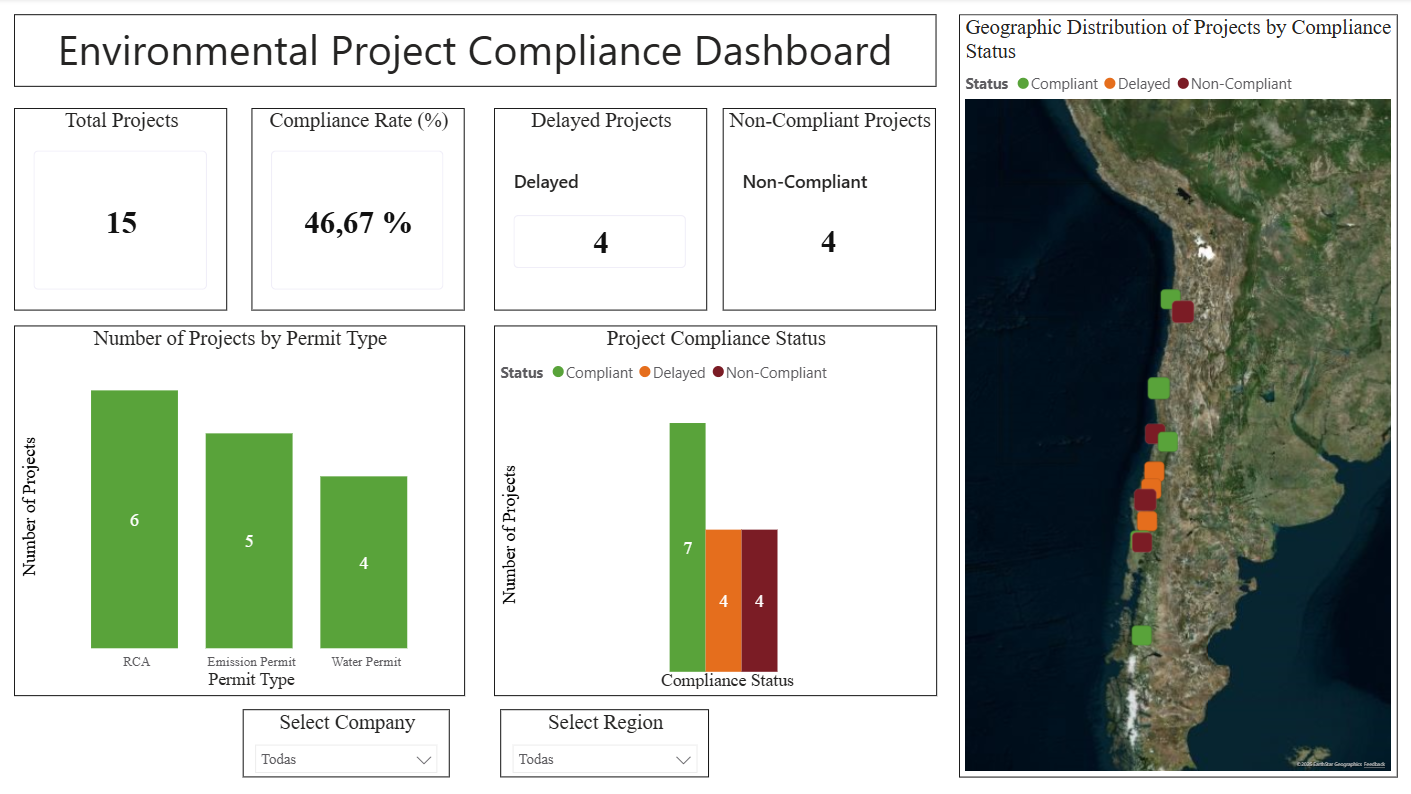

Layout of this report page (visuals, bound fields, positions):
{"tool":"powerbi","page":{"name":"Página 1","canvas":[1280,720],"ordinal":0},"visuals":[{"type":"columnChart","title":"Number of Projects by Permit Type","fields":{"Category":["dataset.Permit"],"Y":["CountNonNull(dataset.Project)"]},"box":[13.1,295.7,408,335],"z":0},{"type":"slicer","title":"Select Region","fields":{"Values":["dataset.Region"]},"box":[452.9,643.7,189,61.8],"z":1000},{"type":"clusteredColumnChart","title":"Project Compliance Status","fields":{"Series":["dataset.Status"],"Y":["CountNonNull(dataset.Capacity_MW)"]},"box":[447.3,295.7,400.5,335],"z":2000},{"type":"cardVisual","title":"Total Projects","fields":{"Data":["CountNonNull(dataset.Project)"]},"box":[13.1,99.2,193,183.4],"z":3000},{"type":"cardVisual","title":"Non-Compliant Projects","fields":{"Data":["CountNonNull(dataset.Status)"],"Rows":["dataset.Status"]},"box":[655,99.2,192.7,183.4],"z":4000},{"type":"cardVisual","title":"Delayed Projects","fields":{"Data":["CountNonNull(dataset.Status)"],"Rows":["dataset.Status"]},"box":[447.3,99.2,192.7,183.4],"z":5000},{"type":"slicer","title":"Select Company","fields":{"Values":["dataset.Company"]},"box":[220.8,643.7,187.1,61.8],"z":6000},{"type":"azureMap","title":"Geographic Distribution of Projects by Compliance Status","fields":{"Series":["dataset.Status"],"Size":["CountNonNull(dataset.Project)"],"Category":["dataset.RegionFull"]},"box":[868.3,15,396.7,690.5],"z":7000},{"type":"textbox","box":[13.1,15,834.6,65.5],"z":8000},{"type":"cardVisual","title":"Compliance Rate (%)","fields":{"Data":["dataset.Compliance Rate"]},"box":[228.3,99.2,192.7,183.4],"z":9000}]}

Visuals, with their boxes in screenshot pixels (x1, y1, x2, y2), scaled from the page's 1280x720 canvas onto the 1411x794 screenshot:
"Number of Projects by Permit Type" columnChart: pyautogui.locateOnScreen(14, 326, 464, 696)
"Select Region" slicer: pyautogui.locateOnScreen(499, 710, 708, 778)
"Project Compliance Status" clusteredColumnChart: pyautogui.locateOnScreen(493, 326, 935, 696)
"Total Projects" cardVisual: pyautogui.locateOnScreen(14, 109, 227, 312)
"Non-Compliant Projects" cardVisual: pyautogui.locateOnScreen(722, 109, 934, 312)
"Delayed Projects" cardVisual: pyautogui.locateOnScreen(493, 109, 706, 312)
"Select Company" slicer: pyautogui.locateOnScreen(243, 710, 450, 778)
"Geographic Distribution of Projects by Compliance Status" azureMap: pyautogui.locateOnScreen(957, 17, 1394, 778)
textbox: pyautogui.locateOnScreen(14, 17, 934, 89)
"Compliance Rate (%)" cardVisual: pyautogui.locateOnScreen(252, 109, 464, 312)
